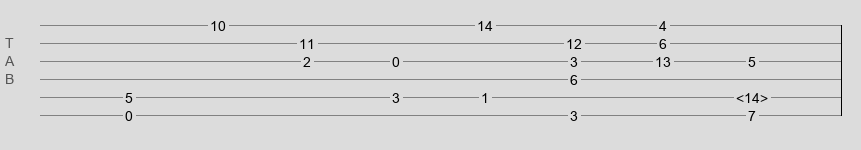0: (125, 108, 133, 118), (392, 54, 400, 64)
1: (481, 90, 489, 100)
10: (210, 18, 226, 28)
11: (299, 36, 315, 46)
12: (566, 36, 582, 46)
13: (655, 54, 671, 64)
14: (477, 18, 493, 28)
2: (303, 54, 311, 64)
3: (392, 90, 400, 100), (570, 54, 578, 64), (570, 108, 578, 118)
4: (659, 18, 667, 28)
5: (125, 90, 133, 100), (748, 54, 756, 64)
6: (570, 72, 578, 82), (659, 36, 667, 46)
7: (748, 108, 756, 118)
harmonic: (736, 90, 768, 100)
